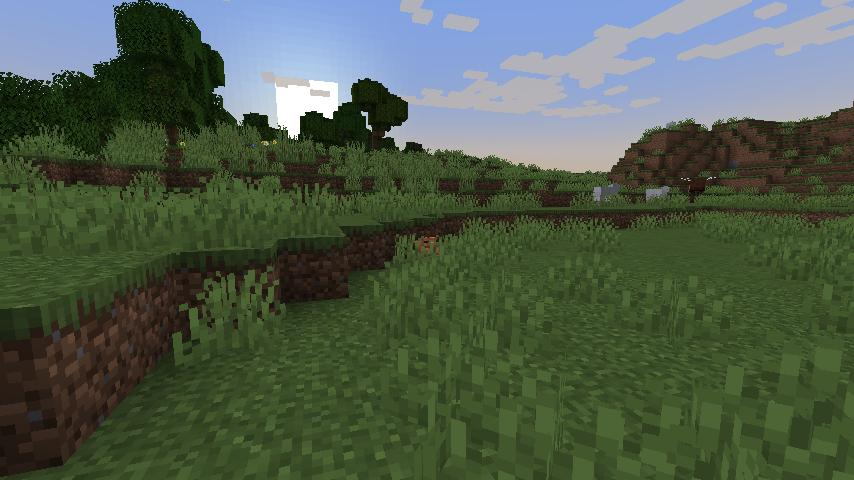frog: (415, 232, 445, 259)
sheep: (593, 182, 622, 206), (644, 185, 672, 205)
